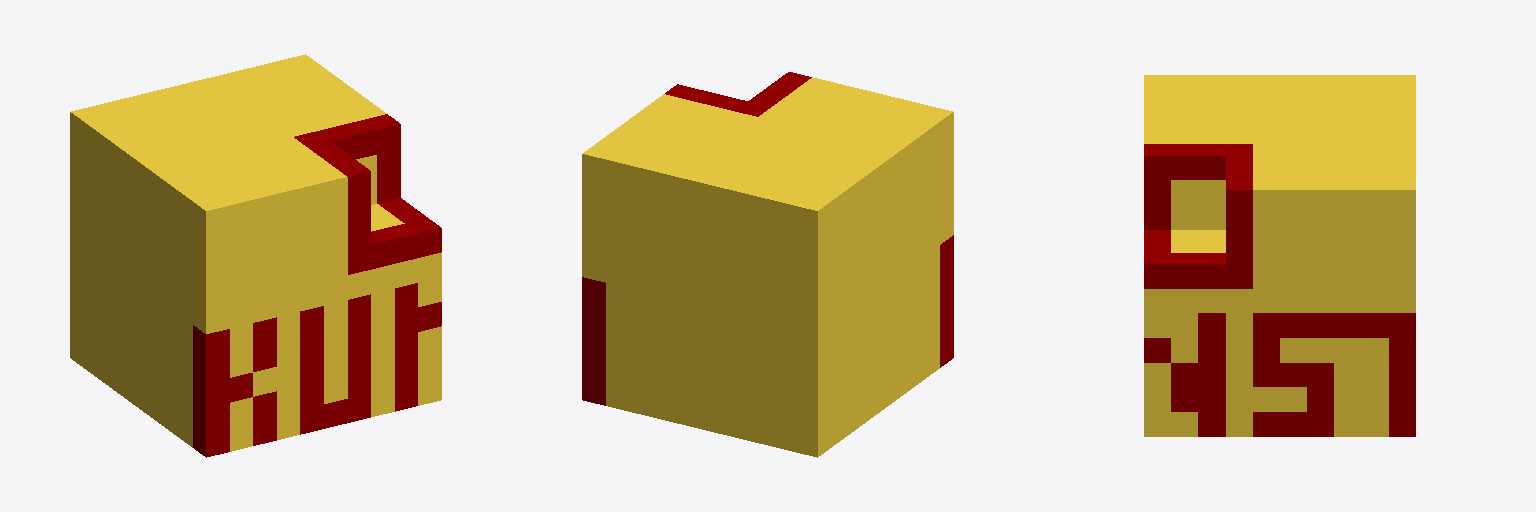
3 renders of one model, left to right at view 1: azimuth 30°, elevation 25°; view 2: azimuth 150°, elevation 25°; view 3: azimuth 270°, elevation 25°, orthographic.
Parts seen in each view (by area): view 1: Icon; view 2: Icon; view 3: Icon.
Boxes of the visible parts, x1=… form: Icon: x1=70, y1=54, x2=441, y2=457; Icon: x1=582, y1=72, x2=953, y2=457; Icon: x1=1144, y1=75, x2=1415, y2=436.
Size of the model in its own units: 10 by 10 by 10.
Materials: 1 (1 with a texture image).